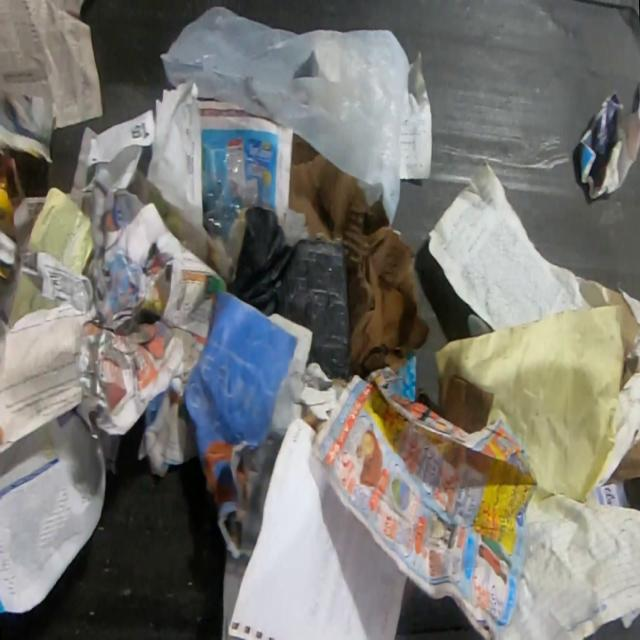cardboard: (288, 133, 431, 383)
soft_plastic: (158, 4, 410, 230), (202, 144, 264, 247)
